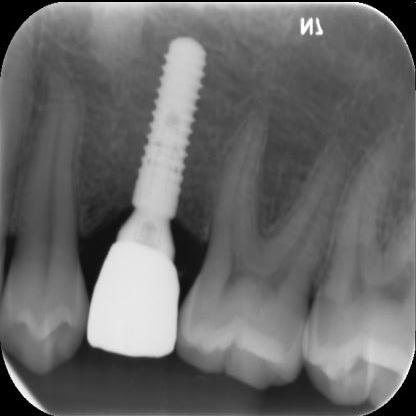ITI: (128, 28, 211, 220)
